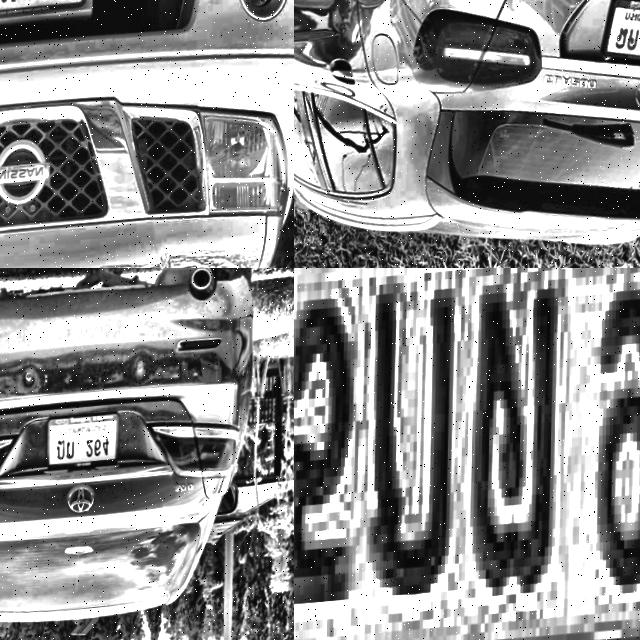license-plate: (294, 268, 640, 640), (41, 406, 124, 482), (598, 0, 640, 83), (0, 0, 89, 33)
